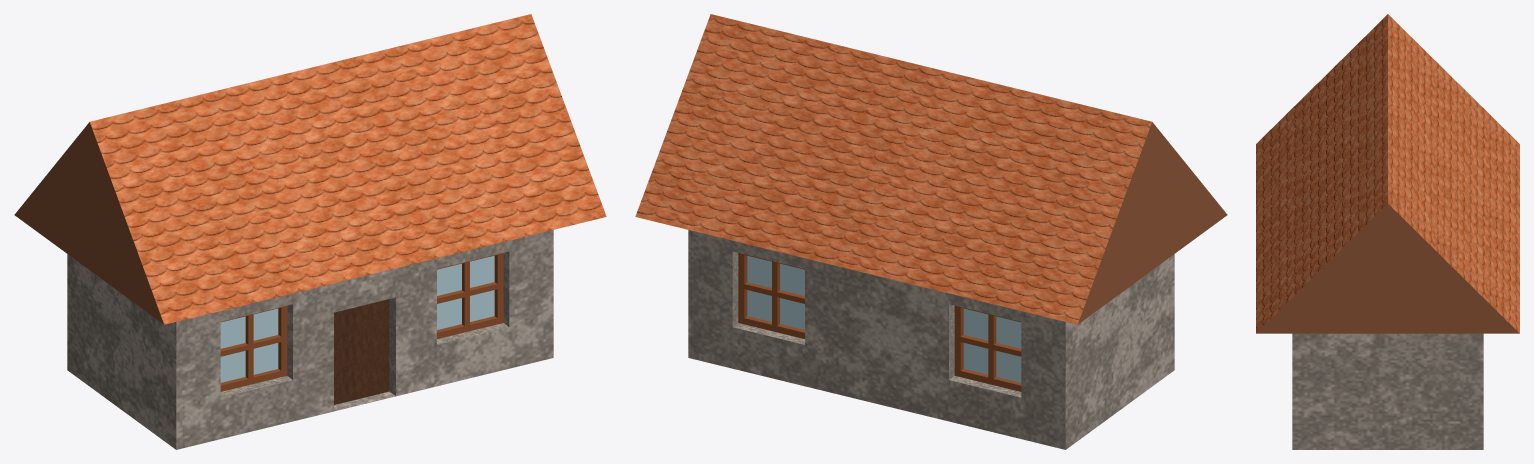
File: house.glb
3 renders of one model, left to right at view 1: azimuth 30°, elevation 25°; view 2: azimuth 150°, elevation 25°; view 3: azimuth 270°, elevation 25°, orthographic. The views are drawn at different scales.
Visible parts, largest first — view 1: base, window; view 2: base, window; view 3: base.
Part boxes in pixels (bbox=[...]): base: bbox=[14, 14, 606, 449]; window: bbox=[220, 253, 503, 391]; base: bbox=[635, 14, 1227, 449]; window: bbox=[738, 253, 1021, 391]; base: bbox=[1256, 14, 1519, 449].
Size of the model in its own units: 9.38 by 6 by 5.51.
6 materials, 3 textured.
